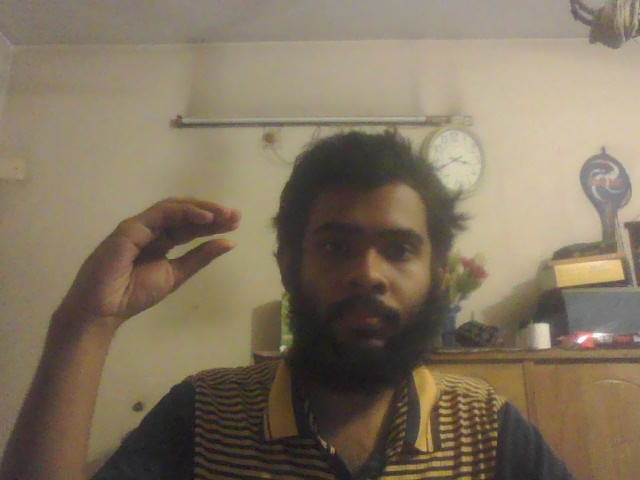No: (70, 196, 245, 314)
